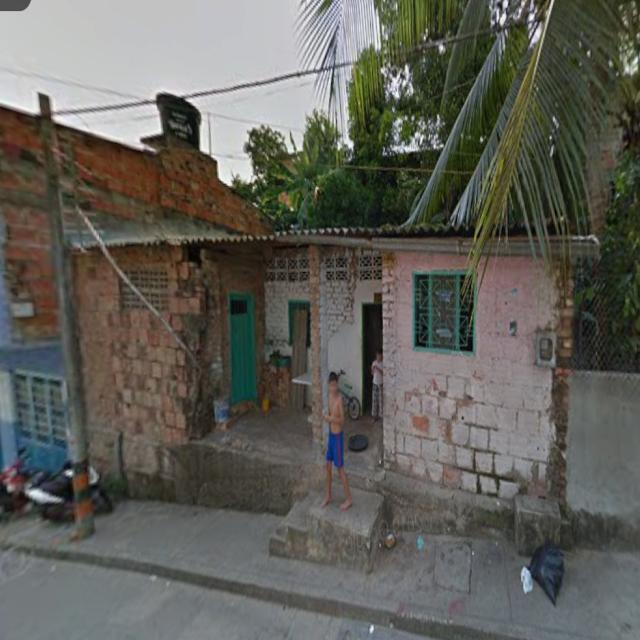Fachada: (72, 229, 598, 575), (1, 105, 266, 470)
Poste: (42, 94, 95, 539)
